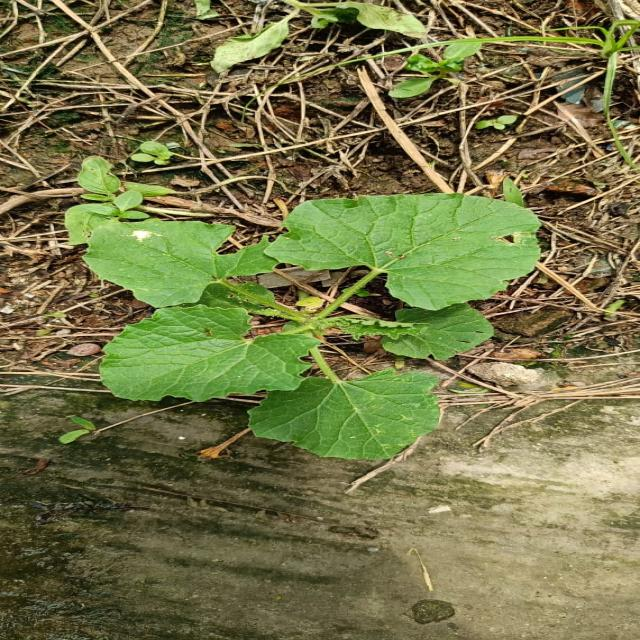plant: (82, 194, 539, 460)
